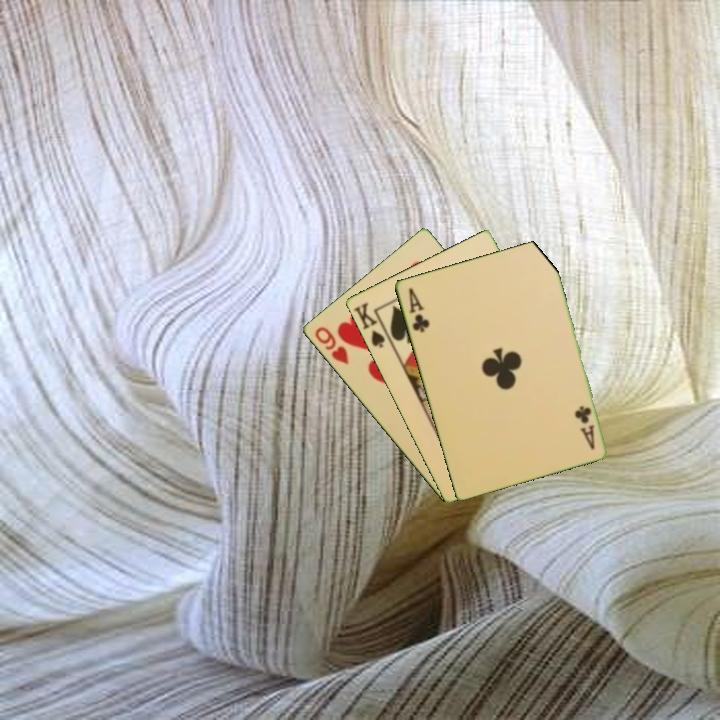9h: (311, 323, 351, 368)
Ac: (405, 284, 432, 335), (571, 402, 597, 452)
Ks: (350, 298, 387, 351)
